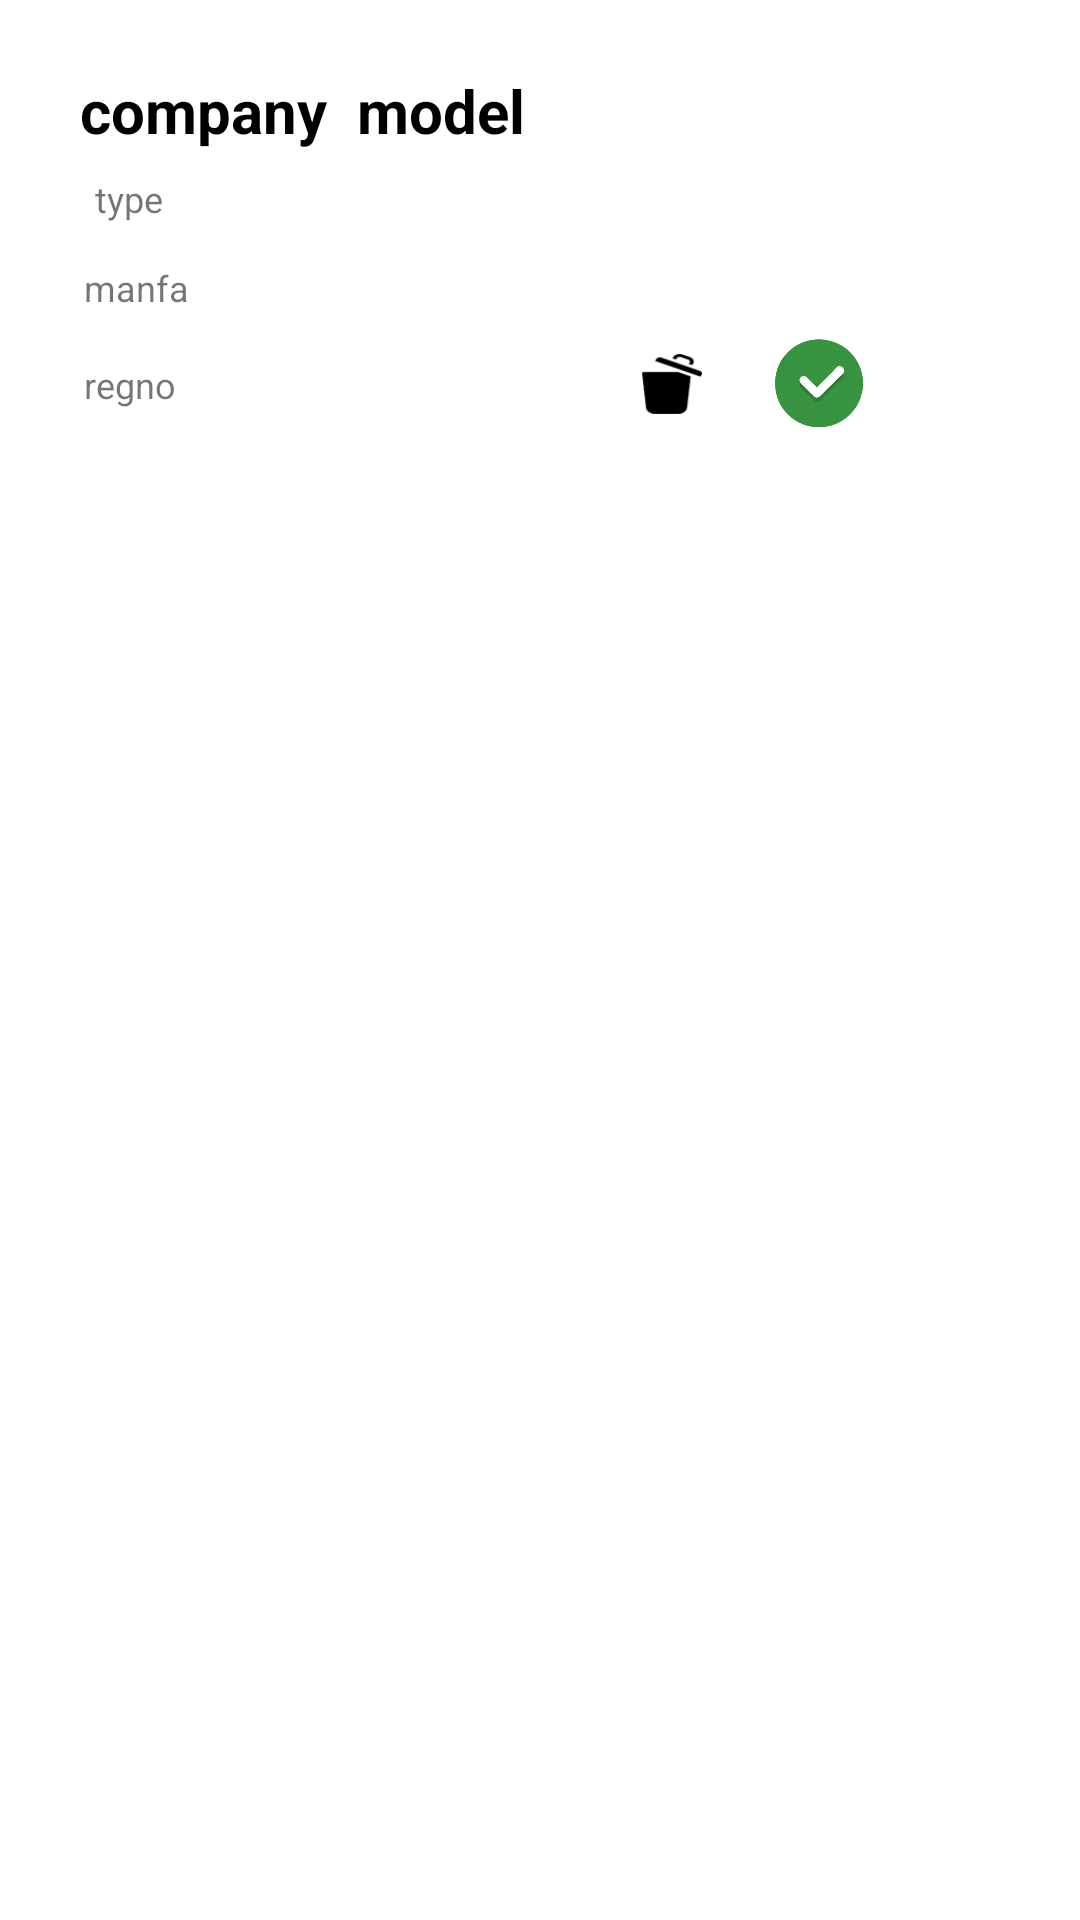

Icon bounding boxes for this 1080x1920 phone screenshot, format [x1=x1, y1=y1, x2=x2, y2=y2]:
delete: [x1=642, y1=354, x2=702, y2=414]
